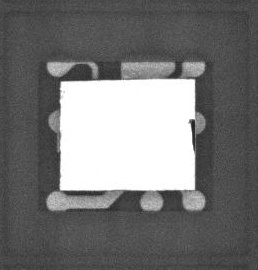DIE_BROKEN: (187, 116, 196, 153)
